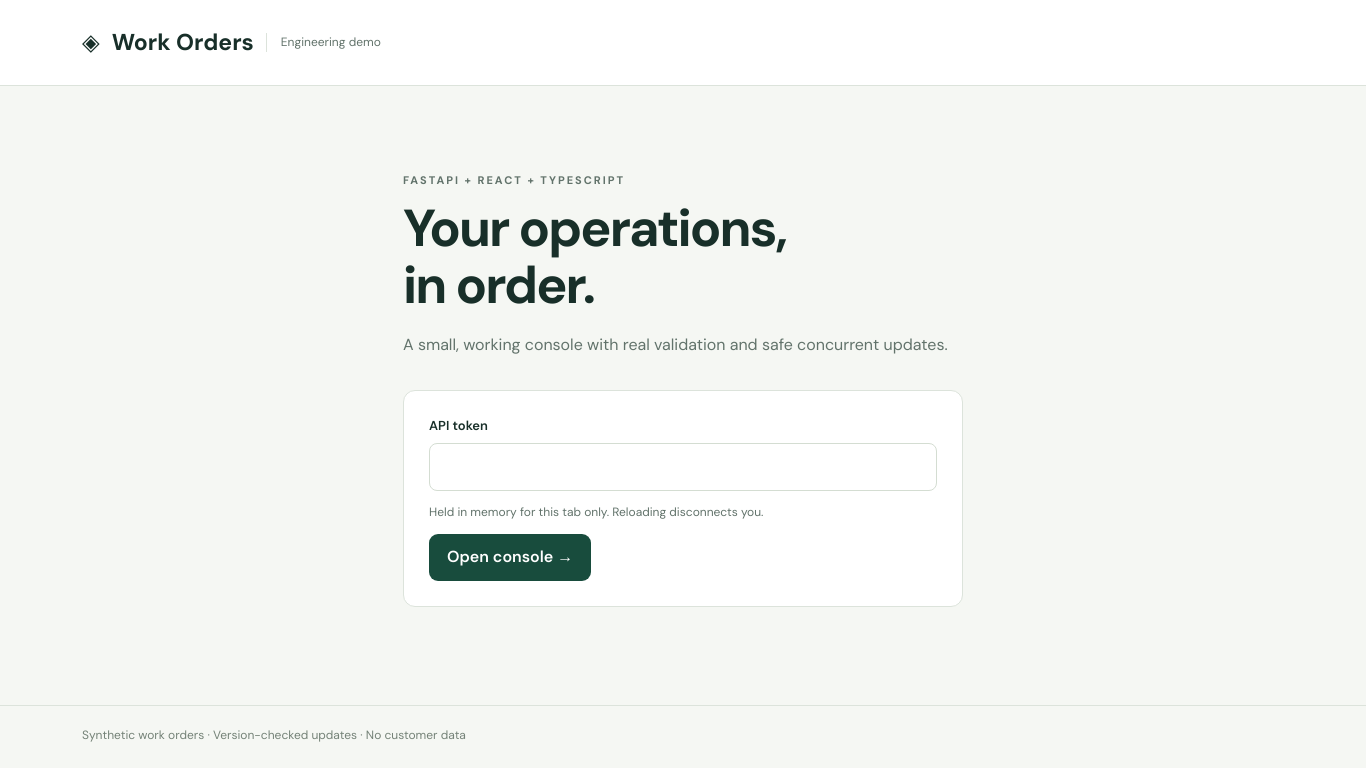
Test: rejected credentials keep the console locked
Type "wrong" into the password field labelled "API token" at x=683, y=467, box [429, 443, 937, 492]
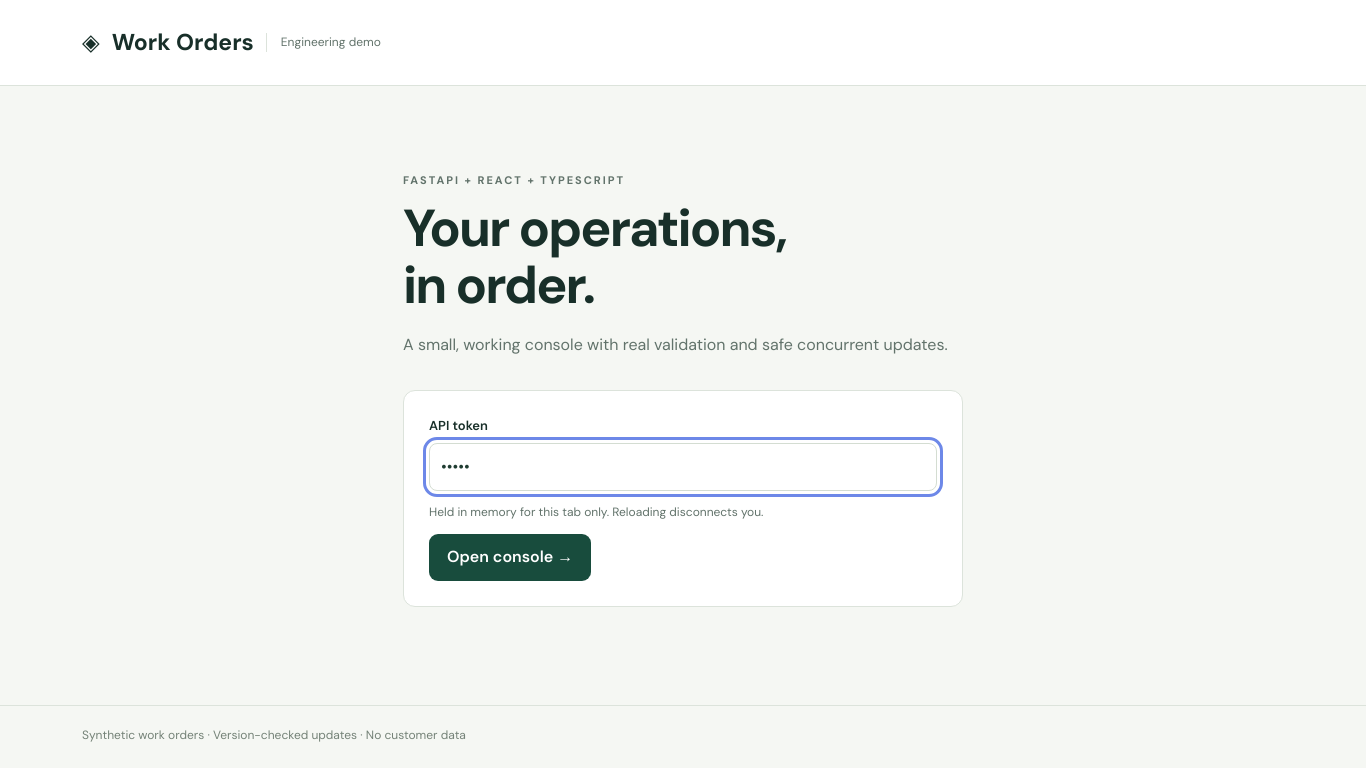
Click the button "Open console →" at x=510, y=558, box [429, 534, 591, 581]
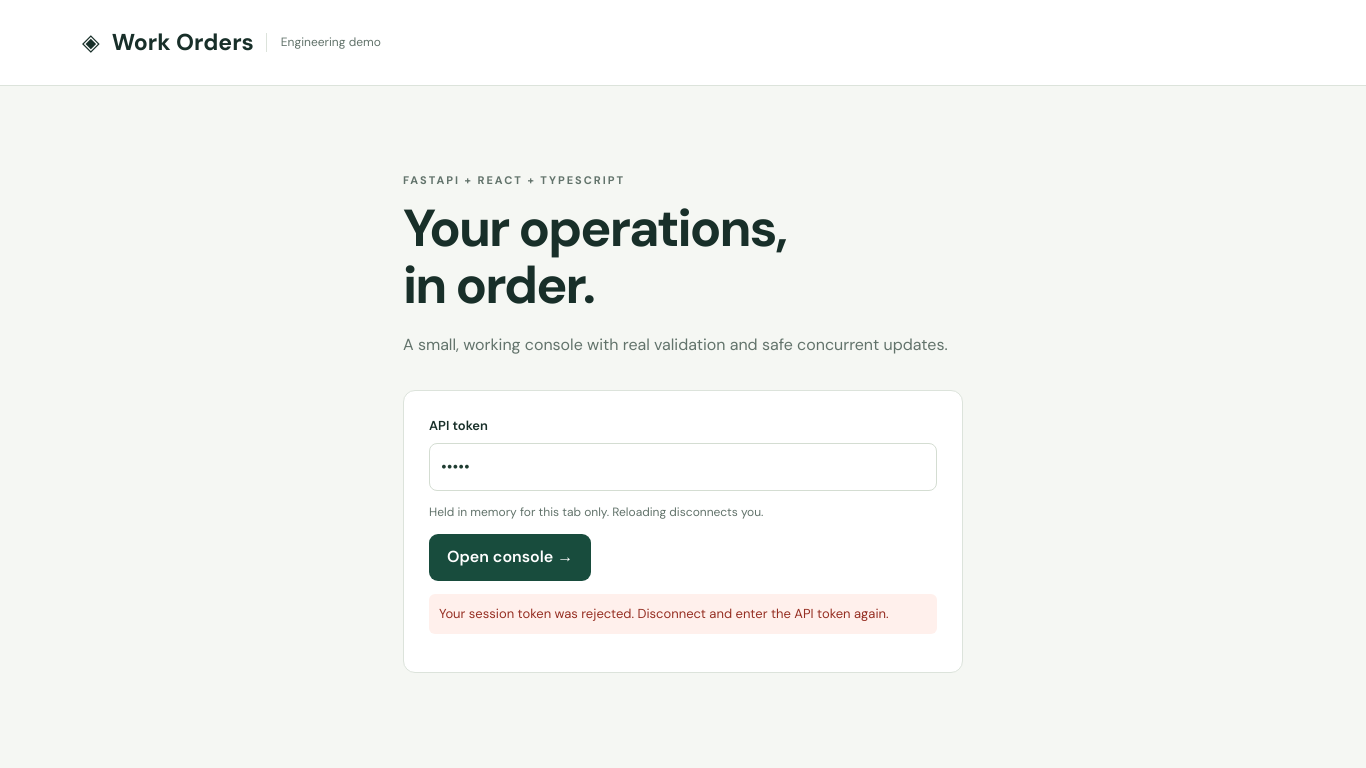
expect the message "Your session token was rejected. Disconnect and enter the API token again." is shown: met, box [429, 594, 937, 634]
